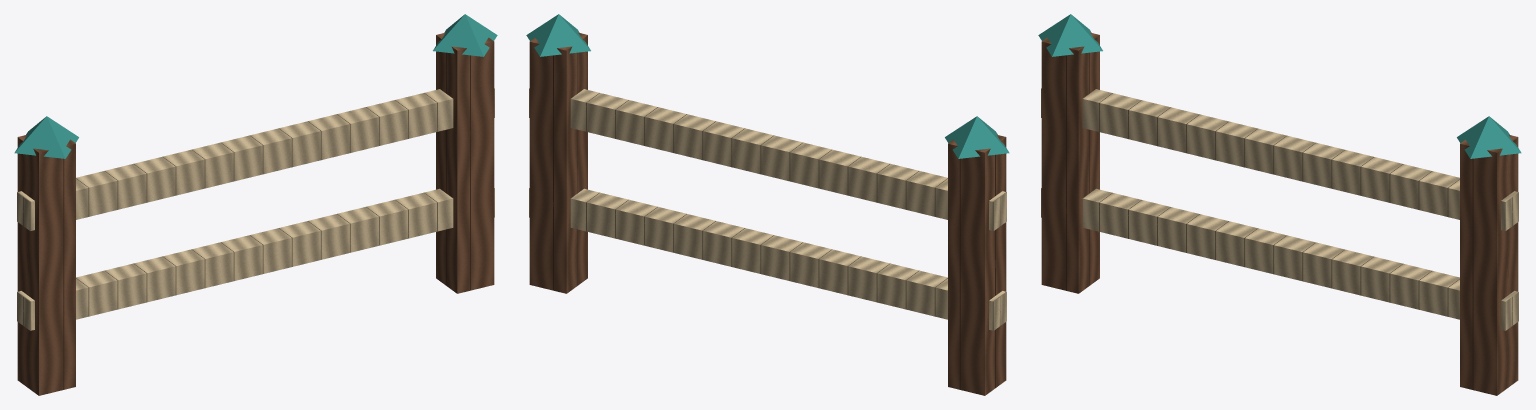
The model's file is fence.glb.
3 renders of one model, left to right at view 1: azimuth 30°, elevation 25°; view 2: azimuth 150°, elevation 25°; view 3: azimuth 330°, elevation 25°, orthographic.
Parts seen in each view (by area): view 1: rail.001, rail, post, post.001, post_cap.001, post_cap; view 2: rail.001, rail, post, post.001, post_cap.001, post_cap; view 3: rail.001, rail, post.001, post, post_cap, post_cap.001.
Part boxes in pixels (x1,y1,x2,y2): rail.001: (17, 88, 494, 230); rail: (17, 188, 494, 330); post: (17, 135, 75, 395); post.001: (436, 32, 494, 293); post_cap.001: (433, 14, 497, 56); post_cap: (14, 116, 78, 158); rail.001: (529, 88, 1006, 230); rail: (529, 188, 1006, 330); post: (948, 135, 1006, 395); post.001: (529, 32, 587, 293); post_cap.001: (526, 14, 590, 56); post_cap: (945, 116, 1009, 158); rail.001: (1041, 88, 1518, 230); rail: (1041, 188, 1518, 330); post.001: (1460, 135, 1518, 395); post: (1041, 32, 1099, 293); post_cap: (1038, 14, 1102, 56); post_cap.001: (1457, 116, 1521, 158).
Bounding box in the file's own units: 2.08 × 1.1 × 0.28.
3 materials, 2 textured.
